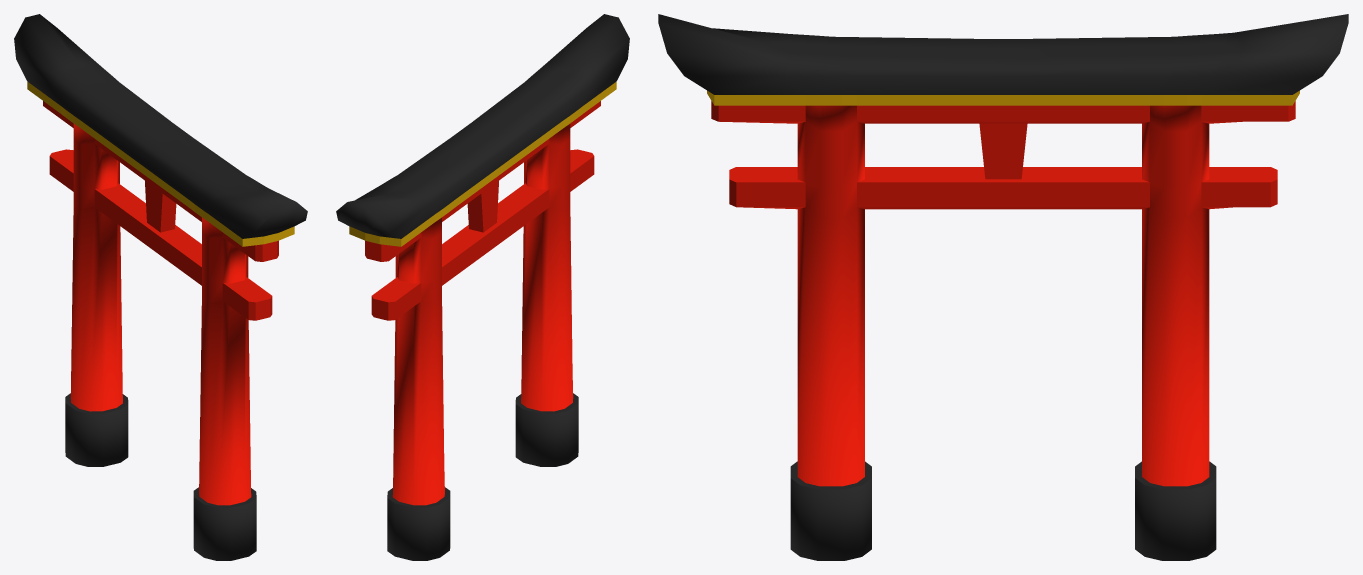
Rendered from JapaneseSpiritGate.fbx.
3 views of the same model, side by side, from view 1: azimuth 30°, elevation 25°; view 2: azimuth 150°, elevation 25°; view 3: azimuth 270°, elevation 25° (orthographic). The views are drawn at different scales.
Visible parts, largest first — view 1: Cube; view 2: Cube; view 3: Cube.
Boxes of the visible parts, <box> form: Cube: <box>14,14,307,560</box>; Cube: <box>336,14,629,560</box>; Cube: <box>658,14,1348,560</box>.
Size of the model in its own units: 70.98 by 504 by 601.
